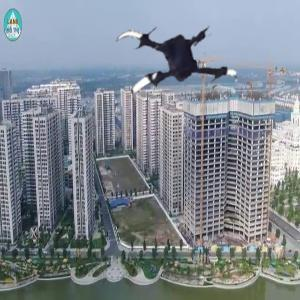drone: (108, 3, 239, 134)
